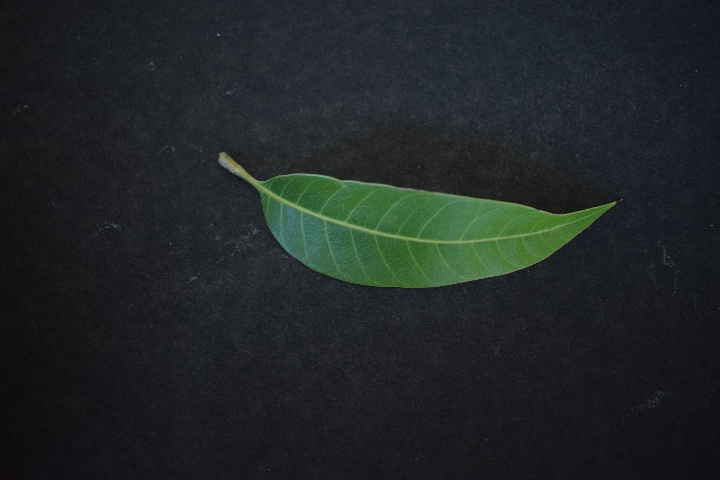healthy: (263, 167, 589, 297)
